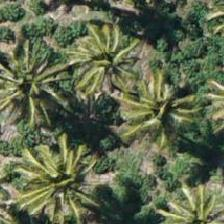coconut_tree: (63, 19, 153, 109), (115, 60, 205, 150), (11, 137, 101, 223)
